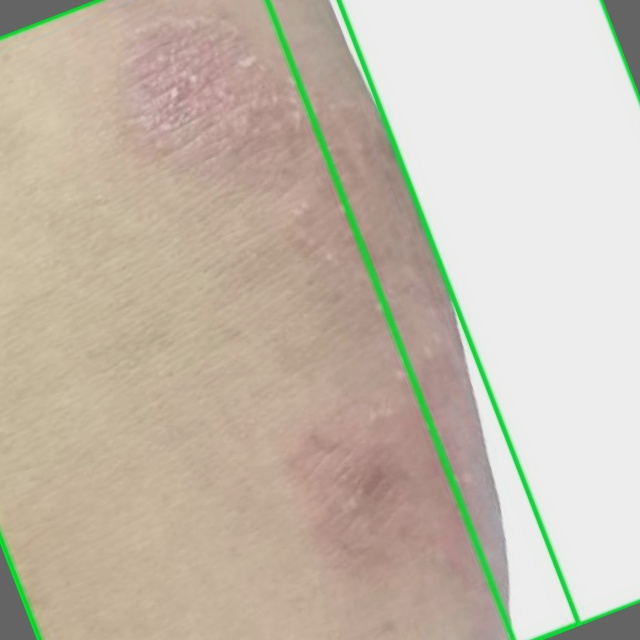Eczema: (0, 0, 578, 639), (267, 0, 639, 639)
